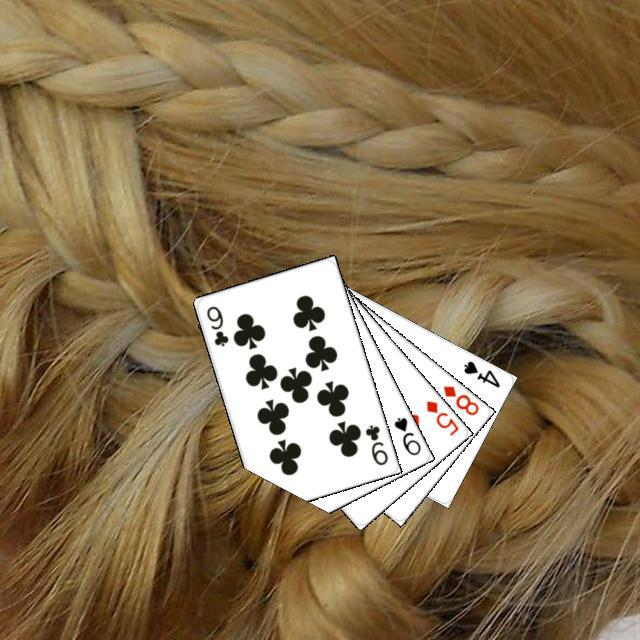4s: (459, 356, 502, 389)
5d: (421, 396, 460, 437)
8d: (438, 380, 481, 417)
9c: (360, 420, 389, 467), (201, 301, 230, 348)
9s: (389, 412, 423, 457)
